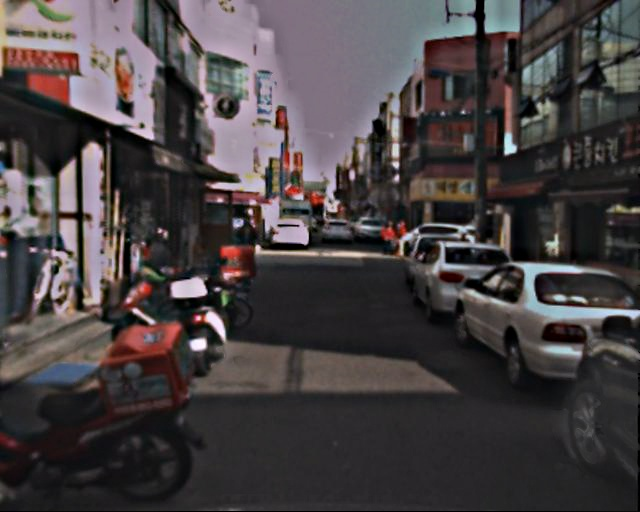person: (231, 212, 264, 292), (381, 219, 397, 257), (395, 219, 410, 256)
